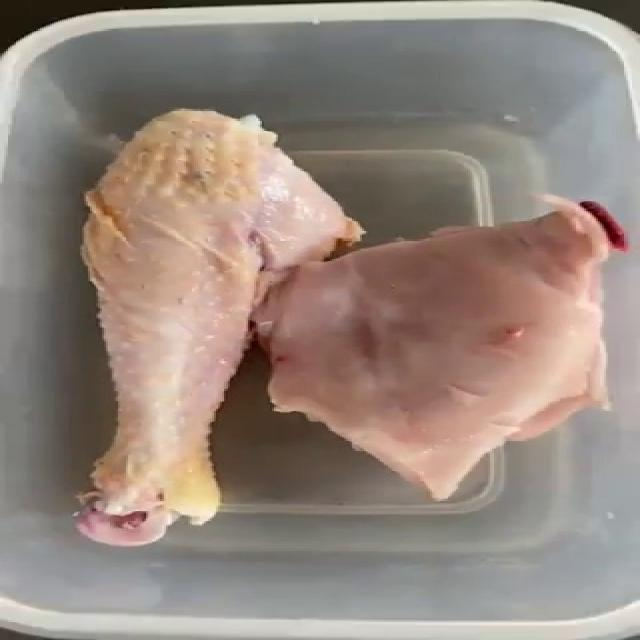chicken: (76, 105, 640, 541)
